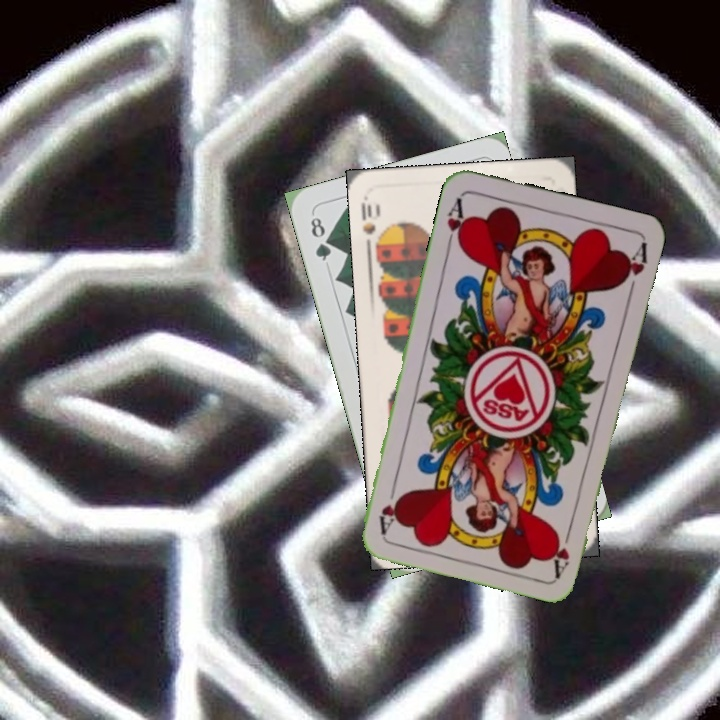G8: (306, 213, 334, 264)
HA: (442, 193, 470, 251), (548, 519, 575, 578)
S10: (357, 194, 385, 253)
